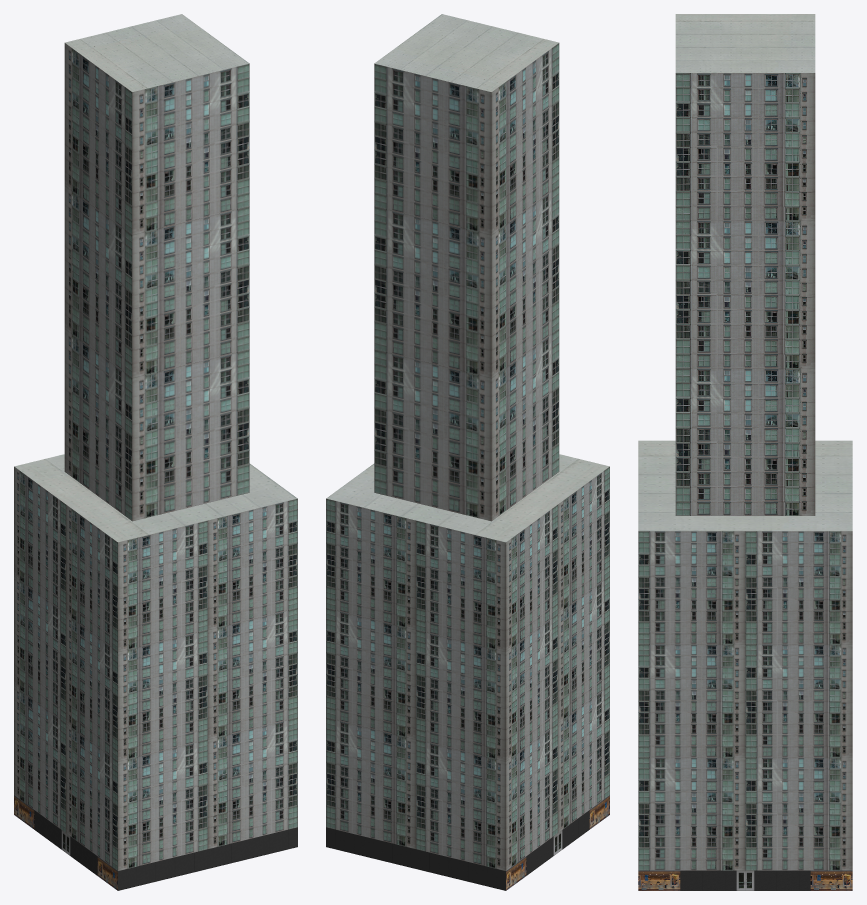
Rendered from Building050.fbx.
3 views of the same model, side by side, from view 1: azimuth 30°, elevation 25°; view 2: azimuth 150°, elevation 25°; view 3: azimuth 270°, elevation 25° (orthographic). The views are drawn at different scales.
Visible parts, largest first — view 1: Building050; view 2: Building050; view 3: Building050.
Part boxes in pixels (x1,y1,x2,y2): Building050: (14,14,297,890); Building050: (326,14,609,890); Building050: (638,14,852,890).
Bounding box in the file's own units: 25.83 × 107 × 25.83.
